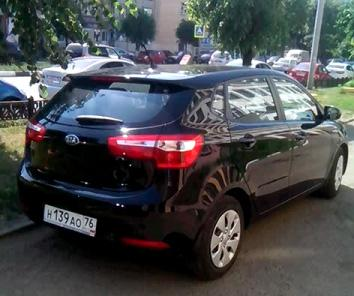license-plateSW: (44, 204, 98, 234)
